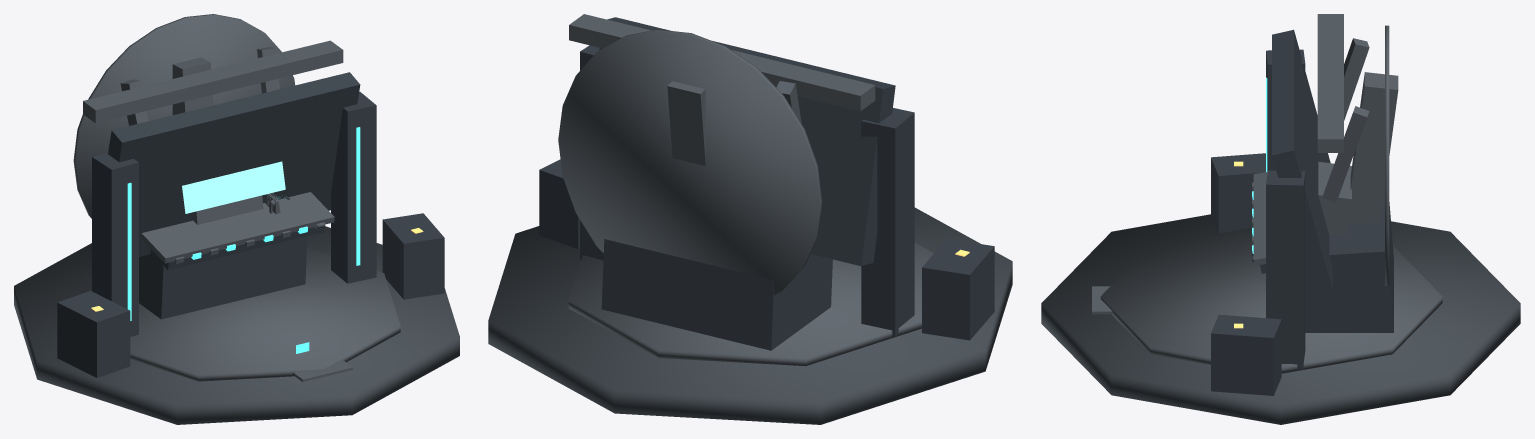
The model's file is quest_base_scene_v1.glb.
3 renders of one model, left to right at view 1: azimuth 30°, elevation 25°; view 2: azimuth 150°, elevation 25°; view 3: azimuth 270°, elevation 25°, orthographic. The views are drawn at different scales.
Parts seen in each view (by area): view 1: BasePlatform, MainPanelFrame, InnerPlatform, RearHalo, MainPedestal, RightDataPylon, LeftDataPylon, OverheadBridge, ConsoleShelf, LeftPlinth, RightPlinth, MainPanelScreen (+7 smaller); view 2: RearHalo, BasePlatform, MainPedestal, InnerPlatform, MainPanelFrame, LeftDataPylon, LeftPlinth, OverheadBridge, RearSpine, RightPlinth, RightDataPylon; view 3: BasePlatform, InnerPlatform, MainPanelFrame, MainPedestal, RightDataPylon, RightPlinth, RearSpine, OverheadBridge, LeftPlinth, PedestalNeck, BridgeStrut_R, RearHalo (+3 smaller).
Part boxes in pixels (x1,y1,x2,y2): BasePlatform: (14,226,459,424); MainPanelFrame: (108,72,360,256); InnerPlatform: (82,248,400,381); RearHalo: (73,14,294,218); MainPedestal: (139,236,307,319); RightDataPylon: (331,91,376,283); LeftDataPylon: (92,153,138,336); OverheadBridge: (83,40,343,123); ConsoleShelf: (141,192,334,263); LeftPlinth: (57,290,130,377); RightPlinth: (382,213,444,299); MainPanelScreen: (182,161,285,213); RearHalo: (558,29,822,295); BasePlatform: (488,207,1012,424); MainPedestal: (601,239,832,350); InnerPlatform: (568,243,933,366); MainPanelFrame: (599,17,895,266); LeftDataPylon: (861,108,914,336); LeftPlinth: (922,239,994,340); OverheadBridge: (569,14,875,111); RearSpine: (667,81,705,165); RightPlinth: (539,159,579,249); RightDataPylon: (580,45,603,260); BasePlatform: (1041,214,1520,424); InnerPlatform: (1100,227,1442,373); MainPanelFrame: (1272,29,1332,297); MainPedestal: (1305,190,1393,332); RightDataPylon: (1266,170,1305,369); RightPlinth: (1211,314,1281,395); RearSpine: (1348,72,1398,224); OverheadBridge: (1317,14,1343,152); LeftPlinth: (1211,153,1265,233); PedestalNeck: (1318,161,1351,235); BridgeStrut_R: (1322,106,1369,202); RearHalo: (1385,25,1389,285).
Bounding box in the file's own units: 5.1 × 3.47 × 5.1.
